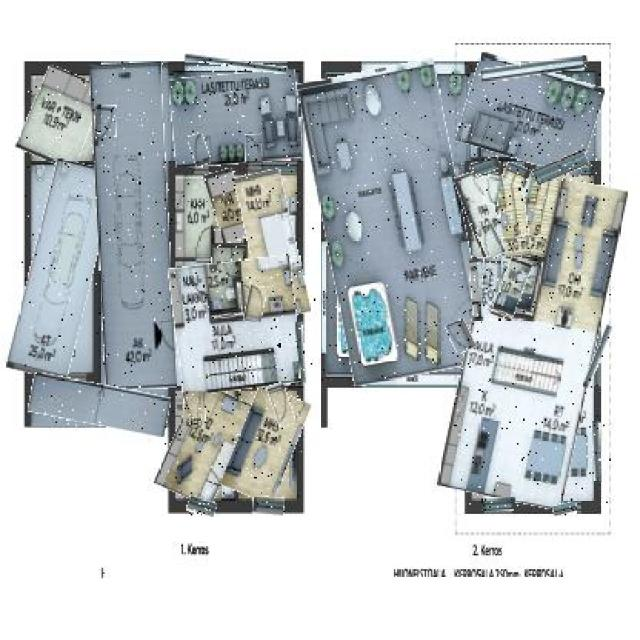door: (270, 383, 292, 426), (95, 105, 117, 146), (448, 320, 474, 354), (479, 223, 503, 259), (185, 390, 206, 428), (244, 286, 264, 322), (191, 132, 209, 166), (192, 226, 211, 257), (483, 260, 500, 294), (484, 173, 502, 204), (246, 134, 262, 166)
window: (480, 58, 588, 78), (534, 155, 589, 180), (185, 58, 288, 71), (589, 324, 608, 388), (503, 163, 531, 186), (253, 497, 284, 517), (471, 157, 500, 175), (188, 498, 215, 517), (297, 323, 305, 385), (482, 498, 516, 511), (594, 420, 600, 482), (554, 505, 577, 517)
zone: (312, 63, 478, 382), (454, 171, 611, 506), (94, 62, 172, 390), (19, 160, 104, 380), (172, 258, 300, 392), (462, 60, 600, 169), (171, 71, 300, 166), (164, 384, 244, 504), (242, 170, 303, 318), (229, 389, 303, 503), (29, 378, 171, 431), (23, 69, 100, 166), (462, 171, 503, 258), (208, 169, 246, 243), (177, 177, 211, 258), (497, 175, 529, 258), (212, 245, 246, 312), (496, 257, 530, 320), (471, 258, 502, 320)
